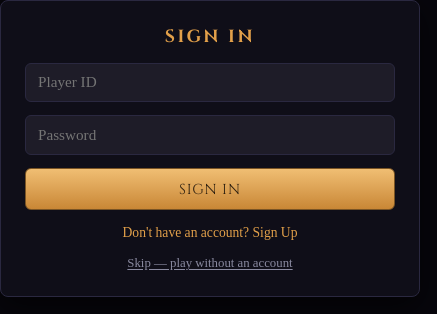
Scenario: Login component › toggles between Sign In and Sign Up modes
The width and height of the screenshot is (437, 314).
Expected: the heading "Sign In" is shown, [165,25,255,49]
Click the button "Don't have an account? Sign Up": (210, 232) [25,224,395,242]
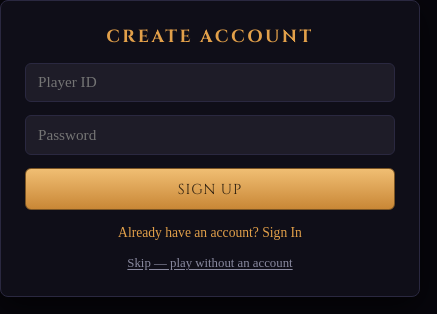
Expected: the heading "Create Account" is shown, [106,25,314,49]
